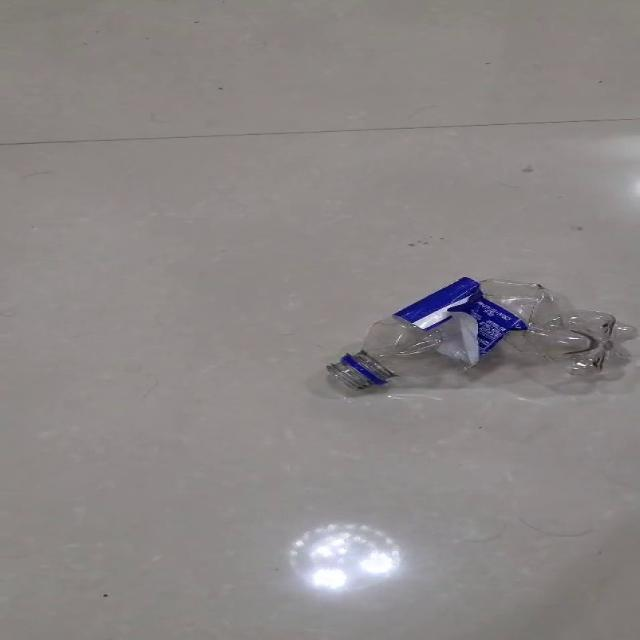plastic: (324, 276, 633, 393)
